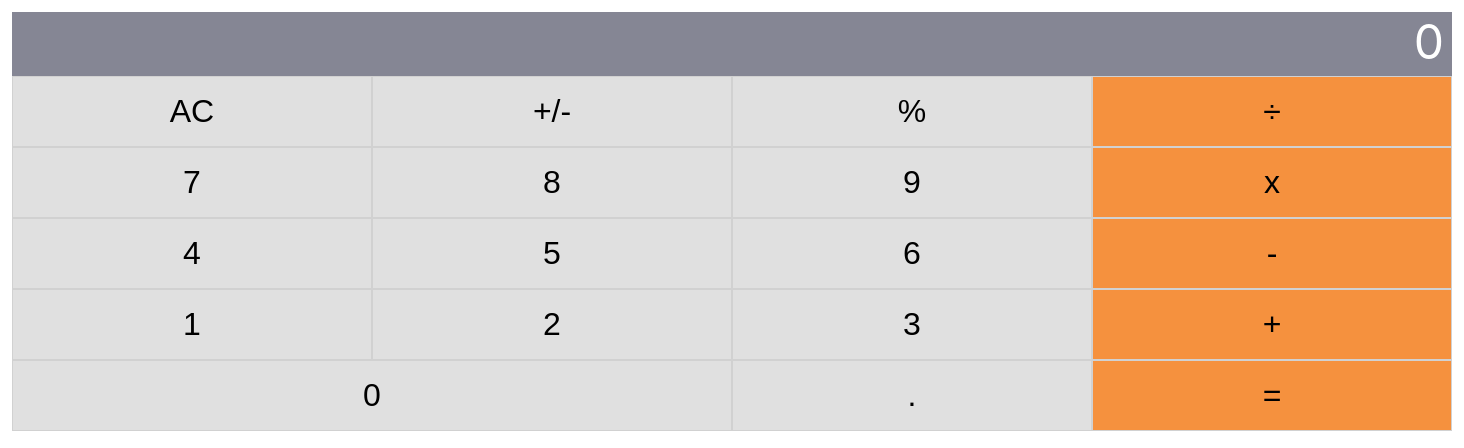
Test: test the calculator component UI › When you minus 6-4 result should be 2
The width and height of the screenshot is (1464, 448).
Step 1. Click the button with test id "no-six" → (912, 254), box [732,218,1092,289]
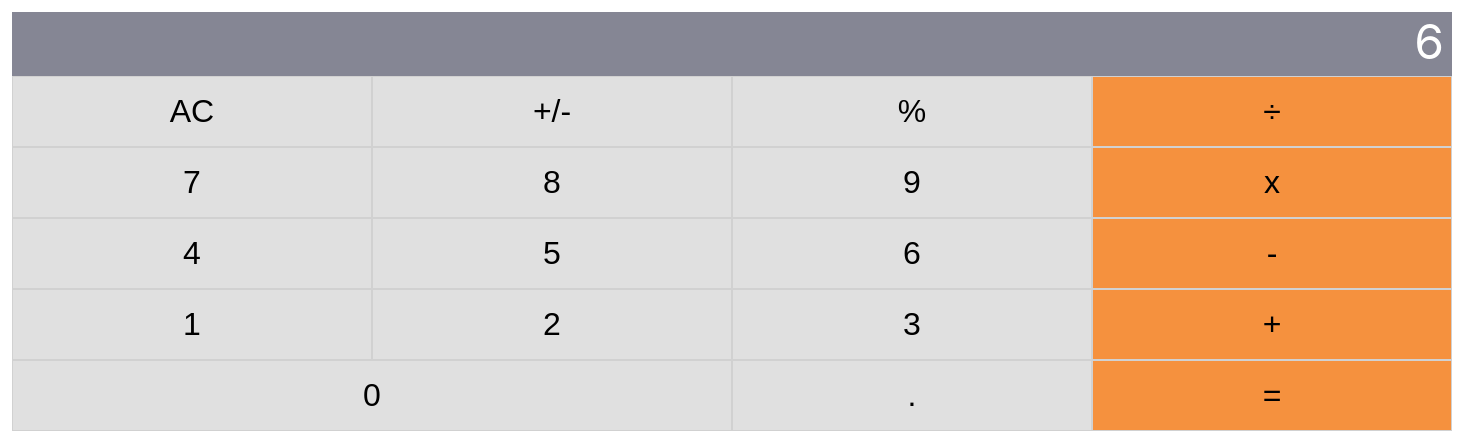
Step 2. Click the button with test id "minus" → (1272, 254), box [1092,218,1452,289]
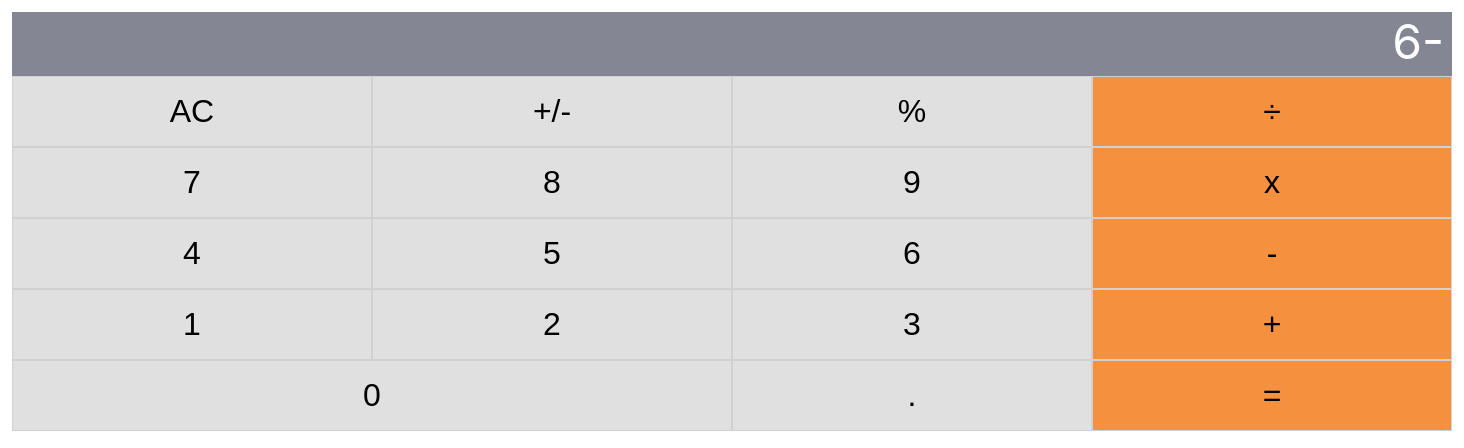
Step 3. Click the button with test id "no-four" → (192, 254), box [12,218,372,289]
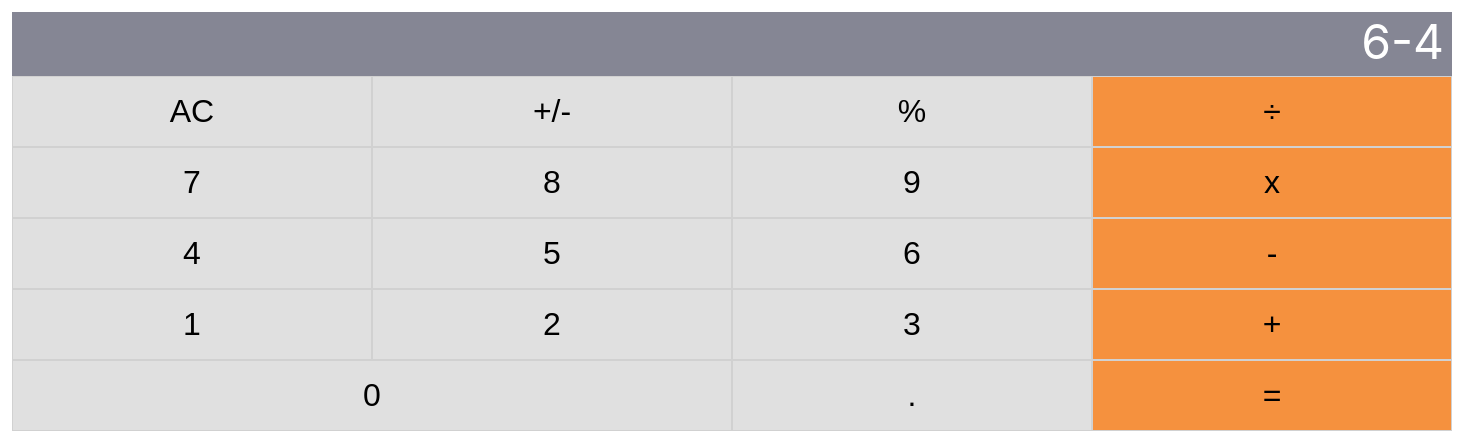
Step 4. Click the button with test id "equal" → (1272, 396), box [1092,360,1452,431]
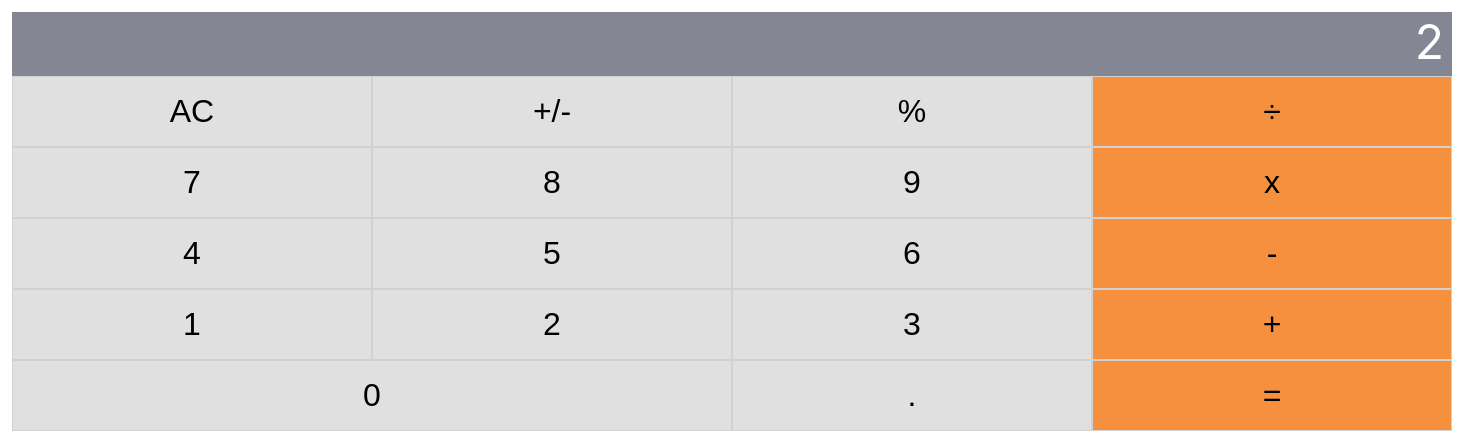
Result: the text with test id "result" reads "2" at [1415,12,1444,71]
